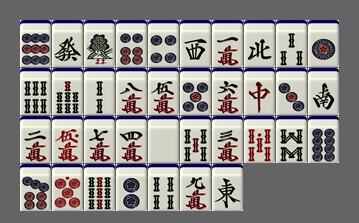0m: (52, 116, 83, 163)
0p: (52, 164, 83, 211)
0s: (244, 116, 275, 163)
1m: (212, 20, 243, 67)
1p: (308, 20, 339, 67)
1s: (84, 20, 115, 67)
1z: (212, 164, 243, 211)
2m: (20, 116, 51, 163)
2p: (116, 164, 147, 211)
2s: (84, 68, 115, 115)
2z: (308, 68, 339, 115)
3m: (212, 116, 243, 163)
3p: (276, 68, 307, 115)
3s: (276, 20, 307, 67)
3z: (180, 20, 211, 67)
4m: (116, 116, 147, 163)
4p: (148, 20, 179, 67)
4s: (148, 164, 179, 211)
4z: (244, 20, 275, 67)
5m: (148, 68, 179, 115)
5p: (180, 68, 211, 115)
5s: (180, 116, 211, 163)
5z: (148, 116, 179, 163)
6m: (212, 68, 243, 115)
6p: (116, 20, 147, 67)
6s: (20, 68, 51, 115)
6z: (52, 20, 83, 67)
7m: (84, 116, 115, 163)
7p: (20, 164, 51, 211)
7s: (52, 68, 83, 115)
7z: (244, 68, 275, 115)
8m: (116, 68, 147, 115)
8p: (308, 116, 339, 163)
8s: (276, 116, 307, 163)
9m: (180, 164, 211, 211)
9p: (20, 20, 51, 67)
9s: (84, 164, 115, 211)
